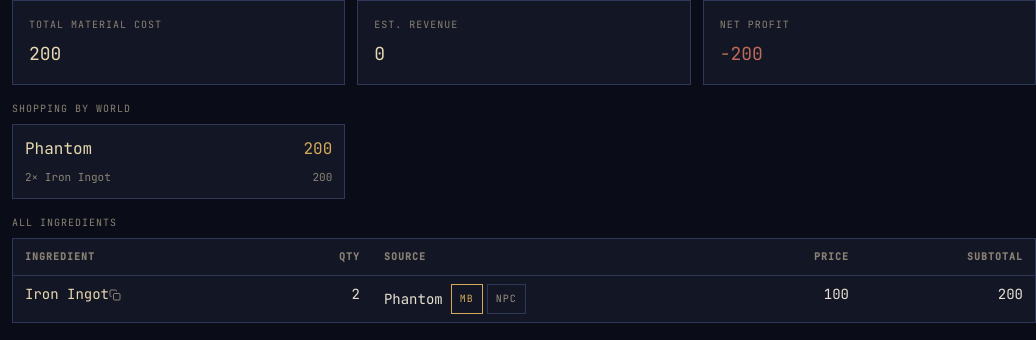
Test case: ShoppingListPlan › clicking NPC button updates the displayed plan (price + world)
Step 1. Click the button "NPC" → (506, 298), box [487,284,526,314]
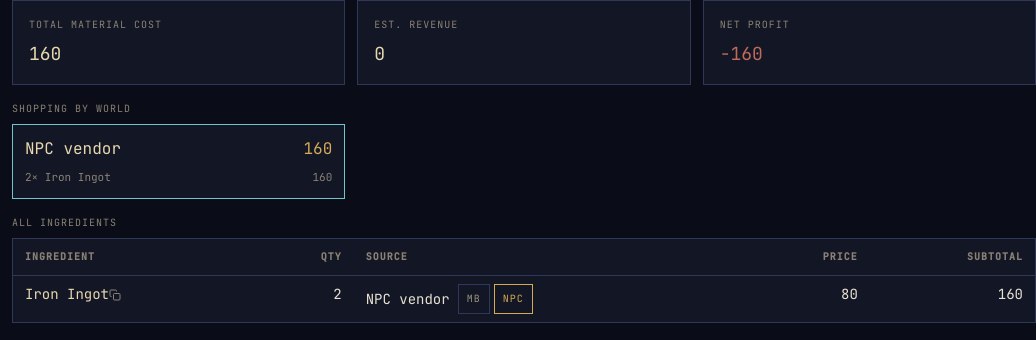
Check: the text "NPC vendor" below "Shopping by world" is shown, box [25,138,121,159]
